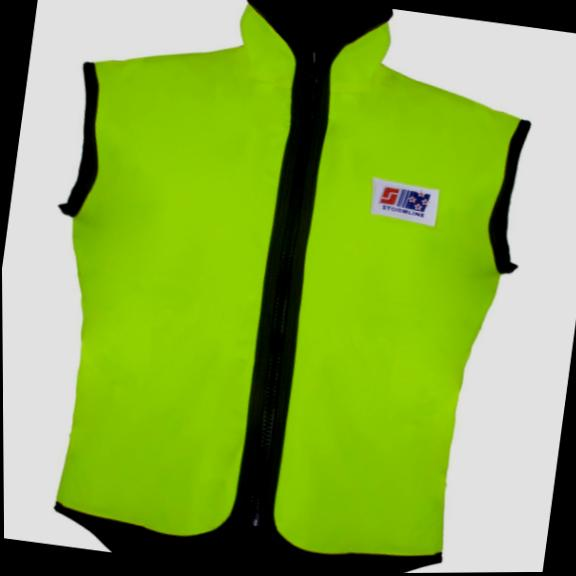safety_vest: (11, 0, 554, 576)
